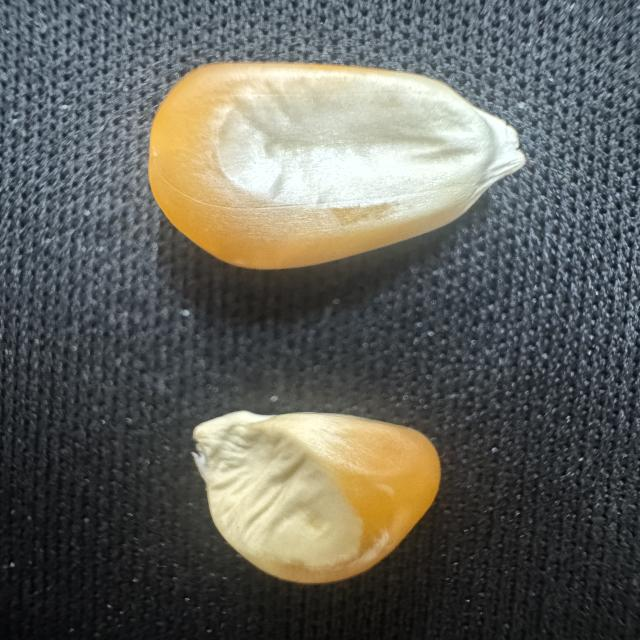Bad-Seed: (176, 396, 458, 593)
Good-Seed: (138, 50, 533, 281)
